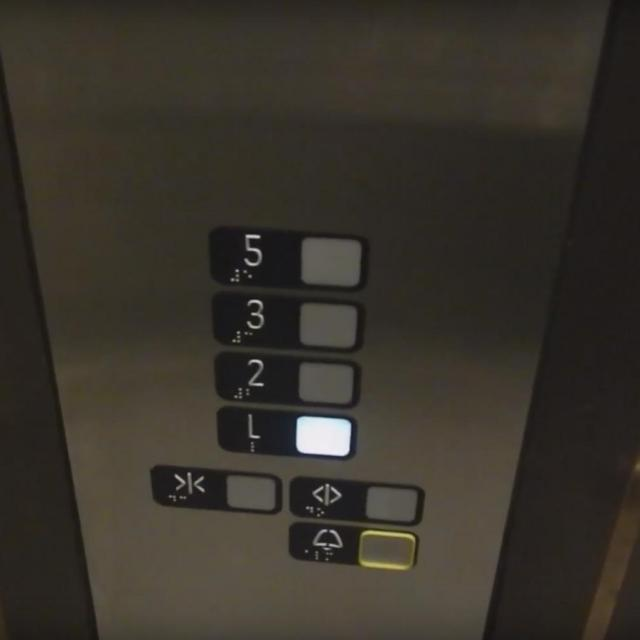2: (210, 346, 364, 410)
3: (209, 290, 364, 354)
5: (205, 223, 368, 293)
L: (212, 401, 359, 462)
alarm: (285, 519, 419, 575)
close: (150, 460, 284, 515)
open: (286, 472, 426, 526)
